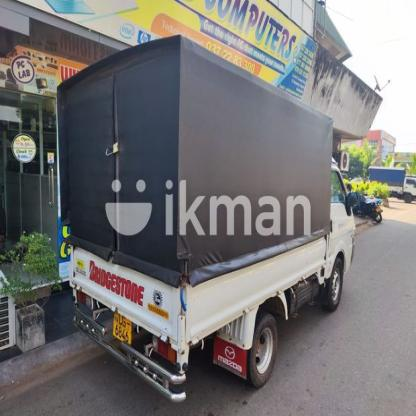Lorry back: (51, 35, 361, 403)
number plate: (110, 311, 136, 347)
